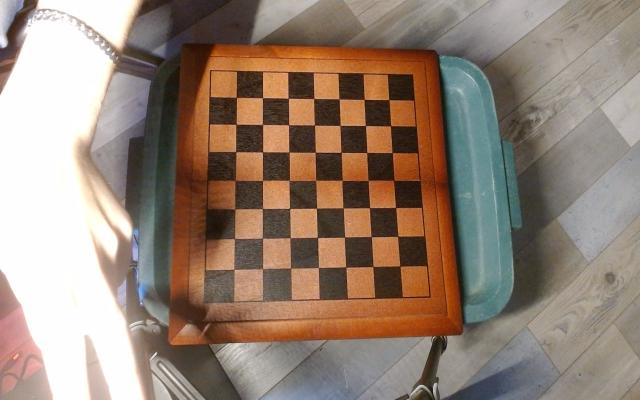corner: (198, 289, 212, 309), (421, 288, 436, 303), (406, 70, 418, 80), (209, 66, 218, 78)
